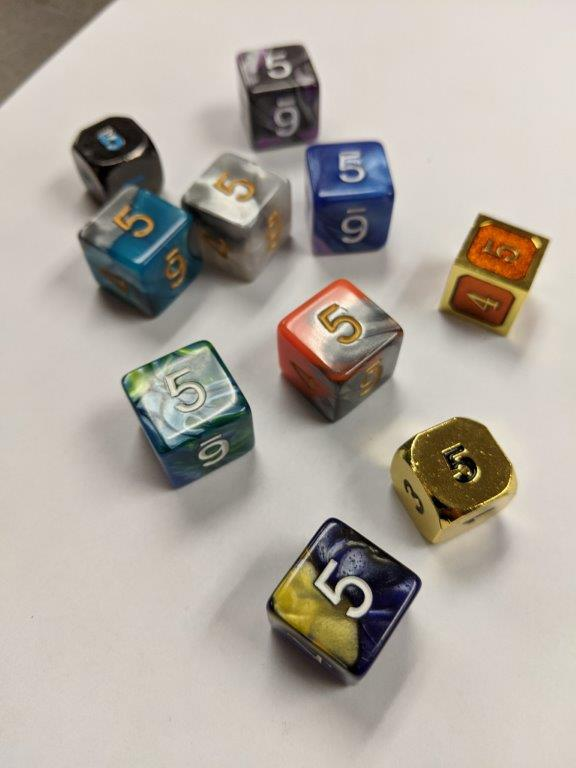d6-5: (266, 517, 419, 686), (119, 338, 256, 493), (72, 181, 202, 317), (276, 281, 401, 422), (389, 415, 516, 545), (182, 145, 292, 279), (438, 212, 549, 338), (302, 139, 395, 262), (231, 43, 321, 149), (71, 118, 164, 206)
